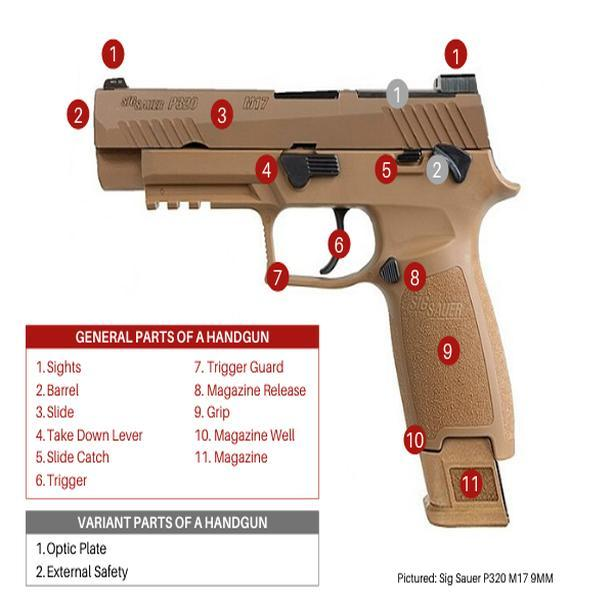Firearm: (71, 34, 567, 549)
